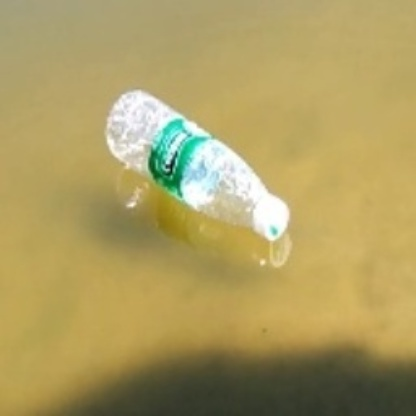bottle: (103, 86, 295, 246)
